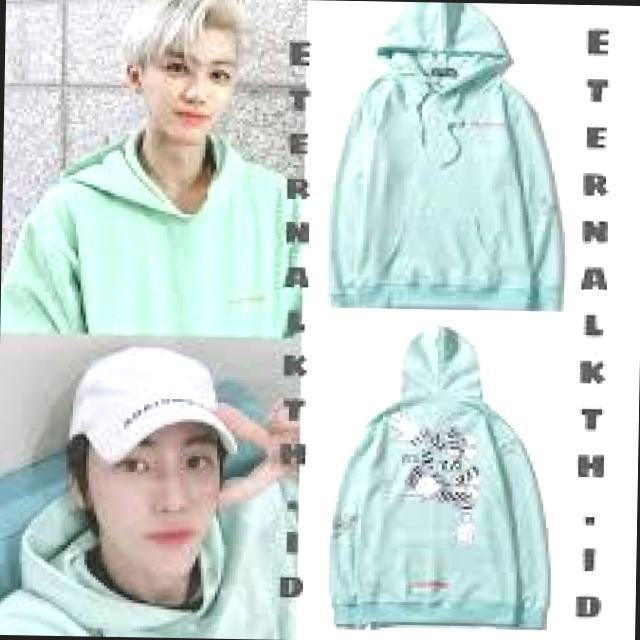sweater: (332, 2, 576, 316), (324, 320, 558, 628), (2, 120, 304, 338)
